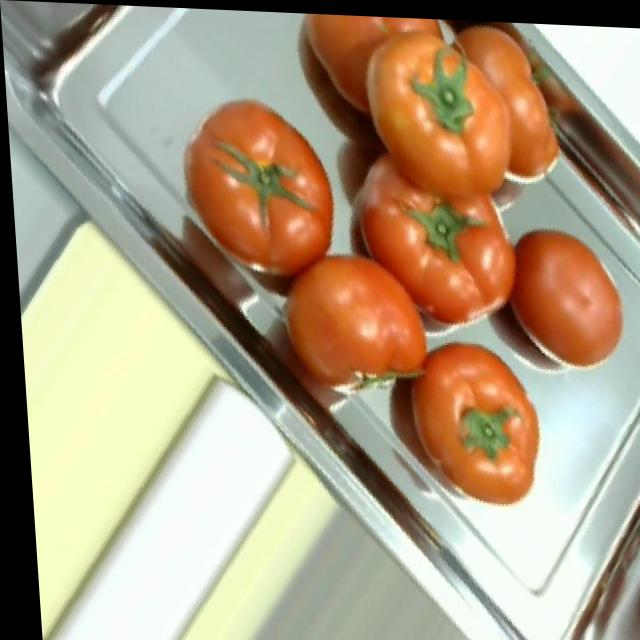sari: (166, 44, 621, 389)
